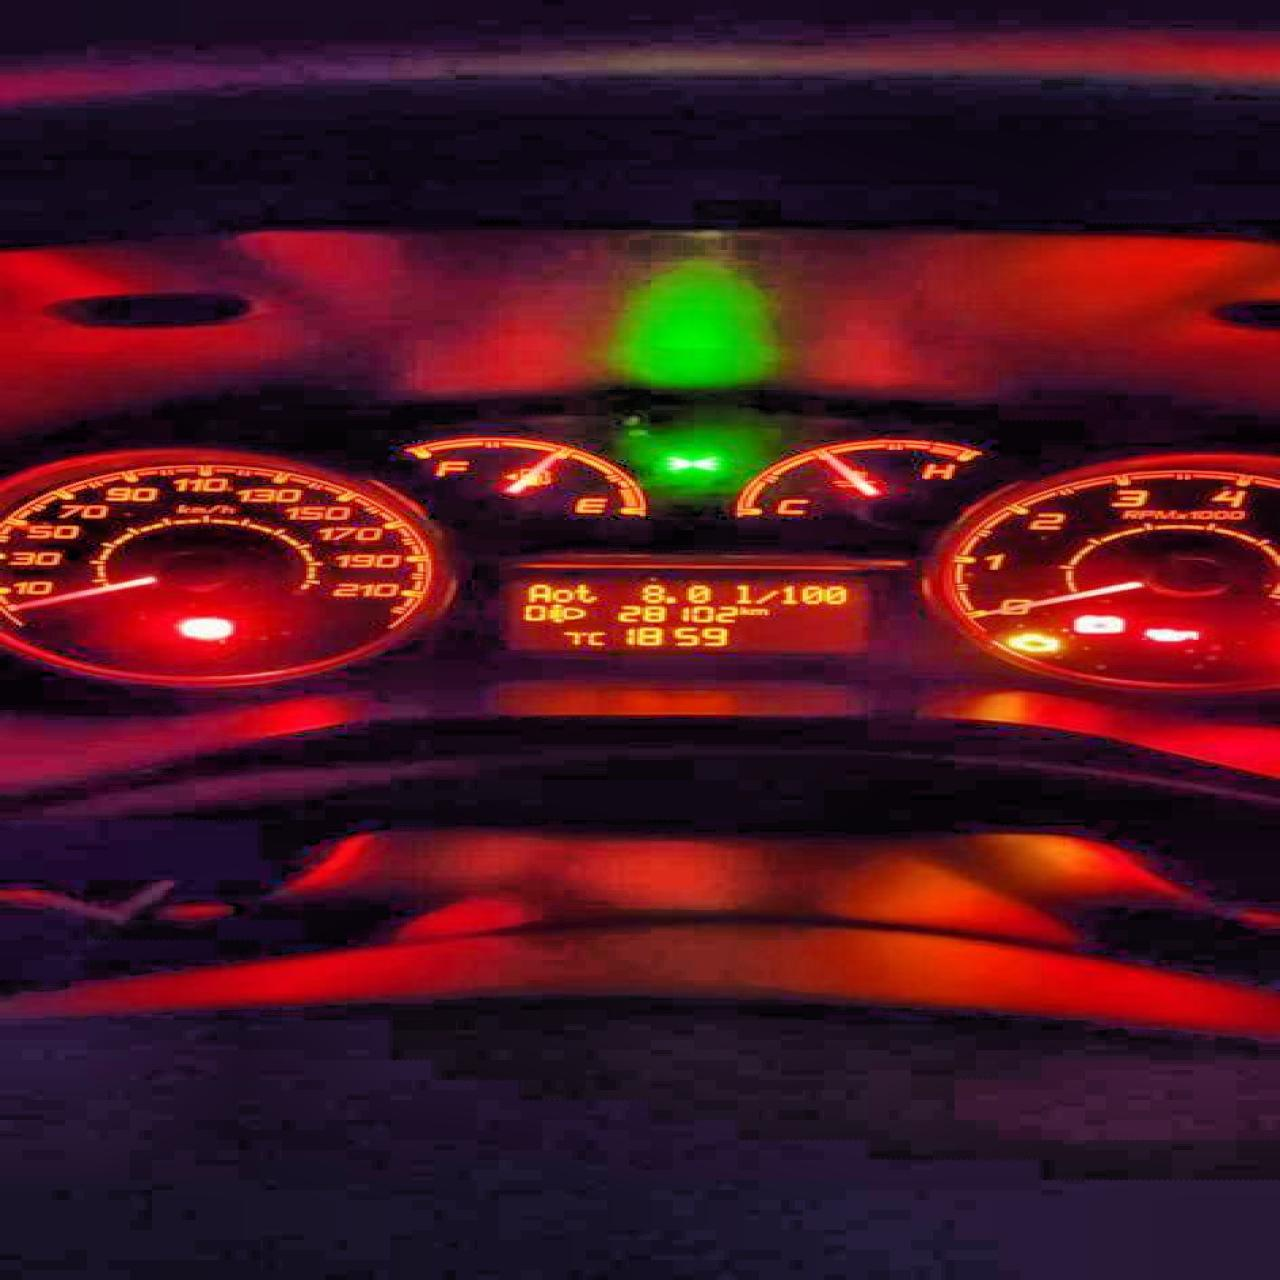-: (662, 594, 679, 604)
0: (683, 583, 710, 602), (824, 583, 844, 605), (689, 604, 713, 622), (520, 604, 545, 621), (801, 585, 822, 605)
1: (778, 583, 797, 605), (624, 626, 632, 645), (678, 605, 686, 621)
2: (713, 605, 735, 622), (619, 604, 638, 621)
5: (670, 625, 697, 646)
7: (561, 629, 580, 644)
8: (638, 583, 662, 604), (635, 625, 659, 646), (640, 604, 665, 621)
9: (700, 625, 727, 646)
X: (572, 583, 597, 604), (524, 583, 551, 601), (729, 583, 749, 604), (751, 588, 778, 602), (551, 587, 572, 602), (586, 629, 605, 645), (735, 605, 748, 615), (751, 607, 768, 614)
odometer: (504, 577, 867, 652)
